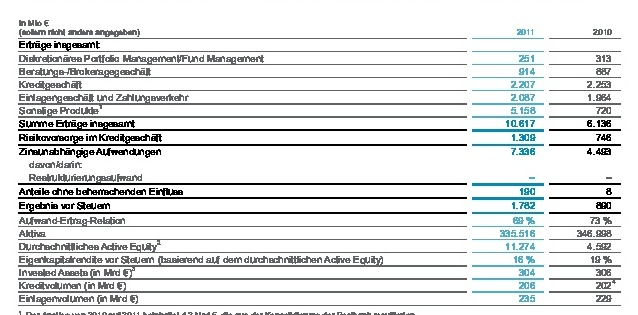table: (0, 0, 638, 315)
